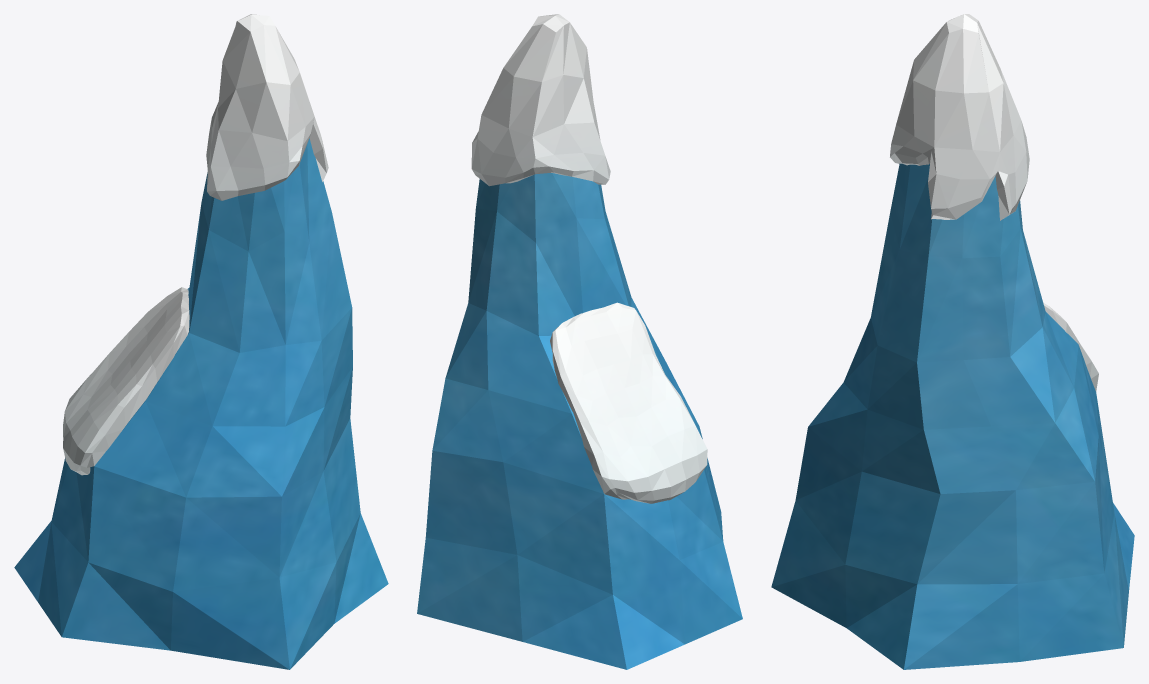
File: HX-Bingzhui4.FBX
3 views of the same model, side by side, from view 1: azimuth 30°, elevation 25°; view 2: azimuth 150°, elevation 25°; view 3: azimuth 270°, elevation 25° (orthographic). The views are drawn at different scales.
Parts seen in each view (by area): view 1: bingzhui4, jixue10; view 2: bingzhui4, jixue10; view 3: bingzhui4, jixue10.
Boxes of the visible parts, x1,y1,x2,y2 form: bingzhui4: [14, 138, 388, 669]; jixue10: [63, 14, 328, 475]; bingzhui4: [417, 173, 742, 669]; jixue10: [471, 14, 707, 503]; bingzhui4: [771, 163, 1134, 669]; jixue10: [890, 14, 1098, 391].
Size of the model in its own units: 268 by 491 by 269.
